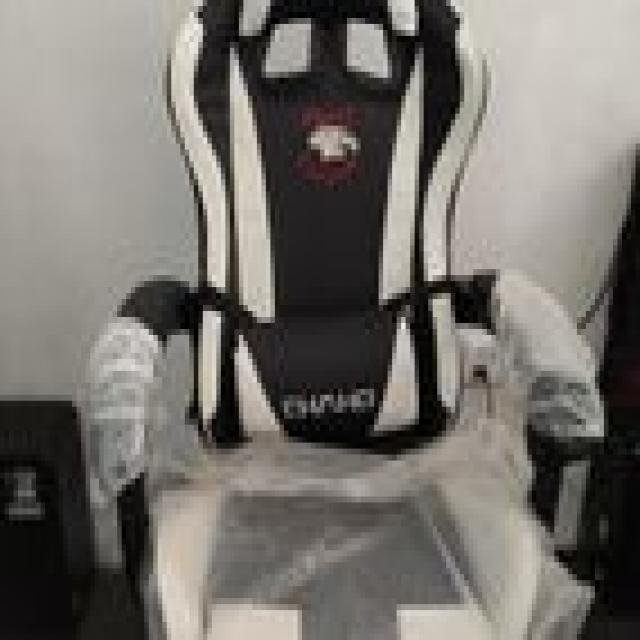others: (72, 6, 600, 640)
